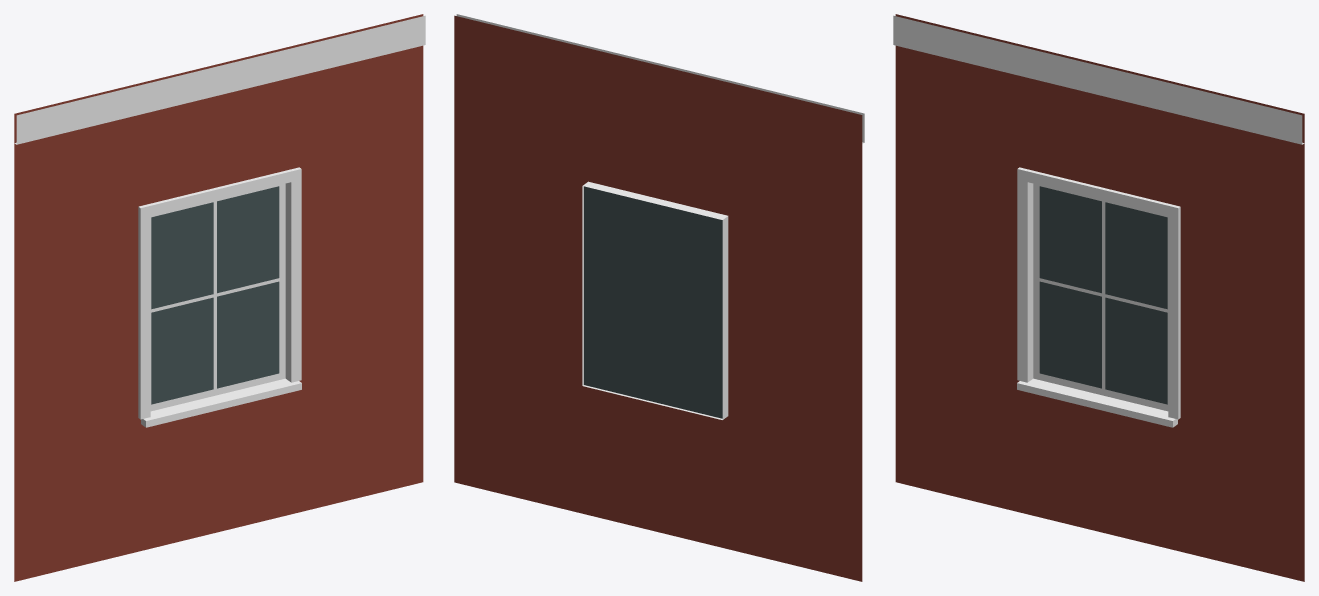
Rendered from top-w1.fbx.
The picture shows the model from 3 angles, left to right: view 1: azimuth 30°, elevation 25°; view 2: azimuth 150°, elevation 25°; view 3: azimuth 330°, elevation 25°; orthographic projection.
Parts seen in each view (by area): view 1: a2000/200/top-w1; view 2: a2000/200/top-w1; view 3: a2000/200/top-w1.
Boxes of the visible parts, bbox=[...] form: a2000/200/top-w1: bbox=[14, 14, 425, 581]; a2000/200/top-w1: bbox=[454, 14, 864, 581]; a2000/200/top-w1: bbox=[893, 14, 1304, 581].
Size of the model in its own units: 3.2 by 3.5 by 0.15.
